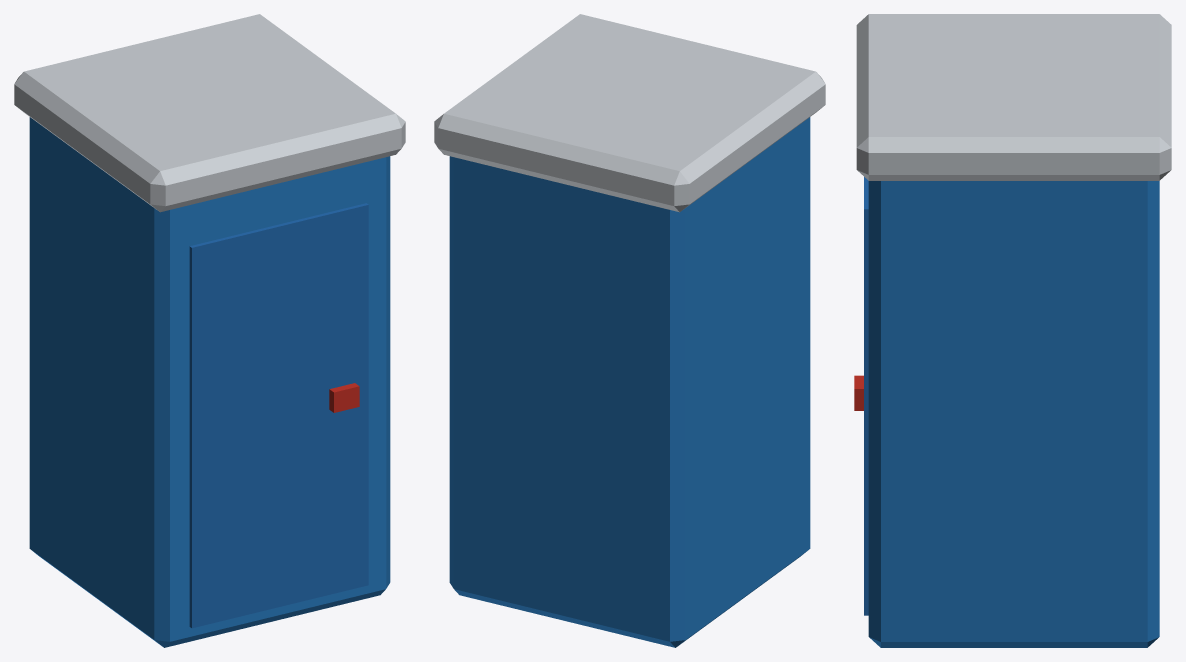
Rendered from portaloo.glb.
3 renders of one model, left to right at view 1: azimuth 30°, elevation 25°; view 2: azimuth 150°, elevation 25°; view 3: azimuth 270°, elevation 25°, orthographic. The views are drawn at different scales.
Visible parts, largest first — view 1: portaloo; view 2: portaloo; view 3: portaloo.
Boxes of the visible parts, bbox=[...] form: portaloo: bbox=[14, 14, 405, 647]; portaloo: bbox=[434, 14, 825, 647]; portaloo: bbox=[854, 14, 1171, 647].
Bounding box in the file's own units: 1.3 × 2.35 × 1.31.
